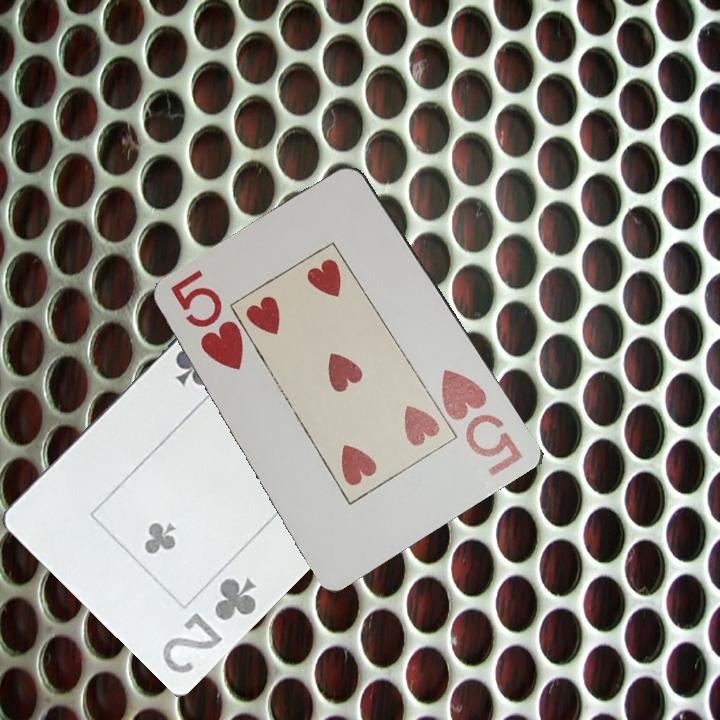2c: (158, 573, 260, 676)
5h: (437, 365, 527, 480), (167, 270, 248, 374)
